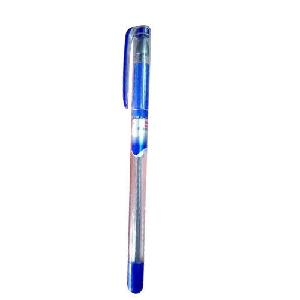pen: (120, 22, 152, 296)
